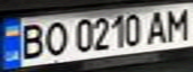0: (72, 16, 93, 53), (124, 11, 145, 47)
1: (109, 11, 127, 50)
2: (90, 15, 112, 52)
A: (145, 8, 172, 45)
B: (12, 21, 48, 61)
M: (160, 6, 193, 42)
O: (39, 20, 69, 57)
